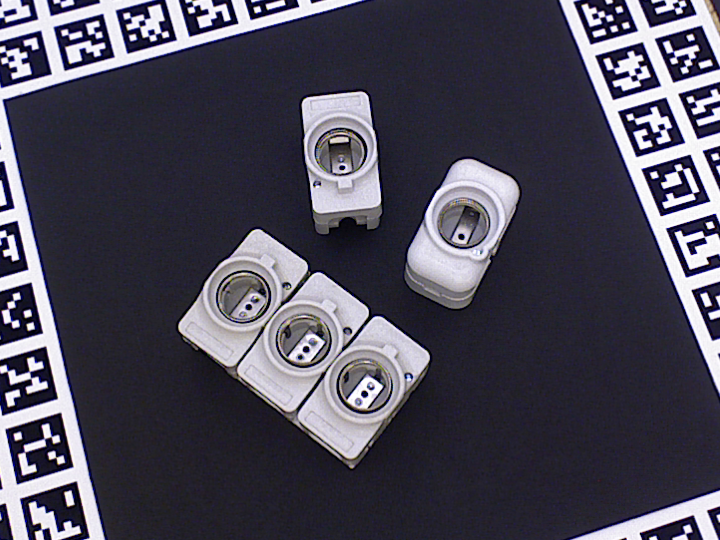Model 5: (406, 159, 519, 307)
Model 6: (301, 92, 381, 232)
Model 7: (179, 230, 428, 466)
